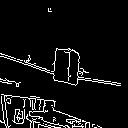cube: (44, 38, 84, 93)
